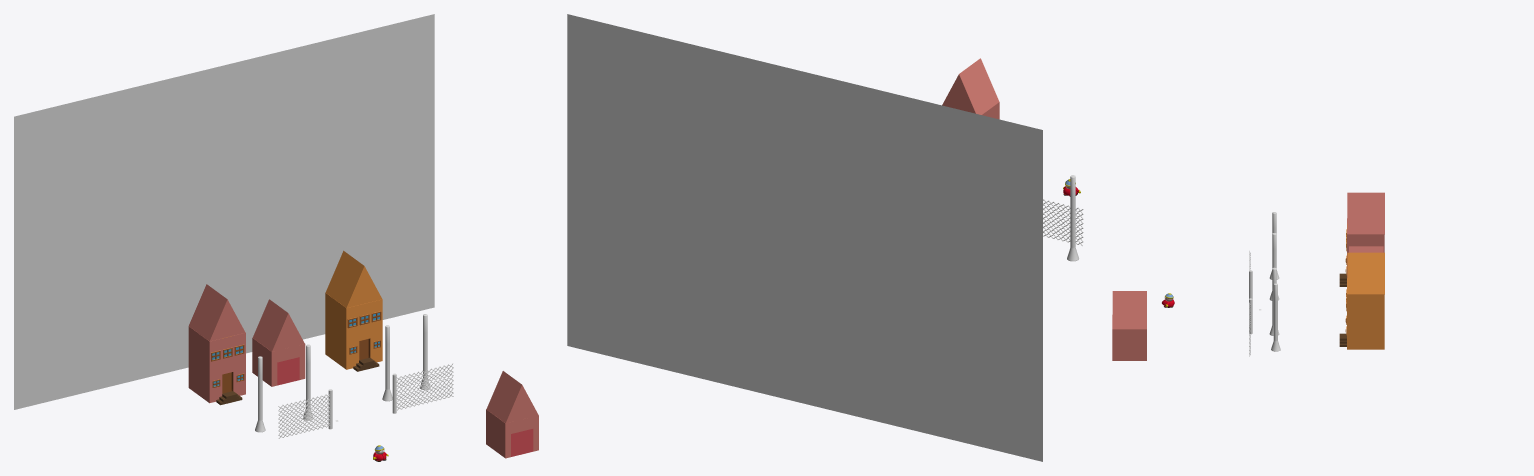
The picture shows the model from 3 angles, left to right: view 1: azimuth 30°, elevation 25°; view 2: azimuth 150°, elevation 25°; view 3: azimuth 270°, elevation 25°; orthographic projection. The views are drawn at different scales.
Visible parts, largest first — view 1: rabie-madaci-epxYbP48c4M-unsplash, Cube.017, Cube.002, Cube.018, Cube.004, Cube, Cube.010, Cube.001, Cylinder.016, Cylinder.008; view 2: rabie-madaci-epxYbP48c4M-unsplash, Cube.010, Cylinder.008, Cylinder.018; view 3: Cube.002, Cube.017, Cube.004, Cube.010, Cube.018.
Boxes of the visible parts, x1=… form: rabie-madaci-epxYbP48c4M-unsplash: x1=14, y1=14, x2=434, y2=409; Cube.017: x1=188, y1=284, x2=245, y2=403; Cube.002: x1=325, y1=293, x2=382, y2=369; Cube.018: x1=486, y1=409, x2=538, y2=458; Cube.004: x1=325, y1=250, x2=381, y2=307; Cube: x1=252, y1=338, x2=305, y2=386; Cube.010: x1=486, y1=371, x2=538, y2=423; Cube.001: x1=252, y1=299, x2=304, y2=351; Cylinder.016: x1=396, y1=363, x2=453, y2=410; Cylinder.008: x1=278, y1=394, x2=330, y2=438; rabie-madaci-epxYbP48c4M-unsplash: x1=567, y1=14, x2=1042, y2=461; Cube.010: x1=942, y1=58, x2=999, y2=114; Cylinder.008: x1=1043, y1=199, x2=1083, y2=245; Cylinder.018: x1=1067, y1=175, x2=1078, y2=261; Cube.002: x1=1346, y1=278, x2=1384, y2=349; Cube.017: x1=1346, y1=192, x2=1384, y2=277; Cube.004: x1=1347, y1=252, x2=1384, y2=294; Cube.010: x1=1112, y1=291, x2=1146, y2=329; Cube.018: x1=1112, y1=315, x2=1146, y2=360.
Size of the model in its own units: 6330 by 4220 by 5906.
